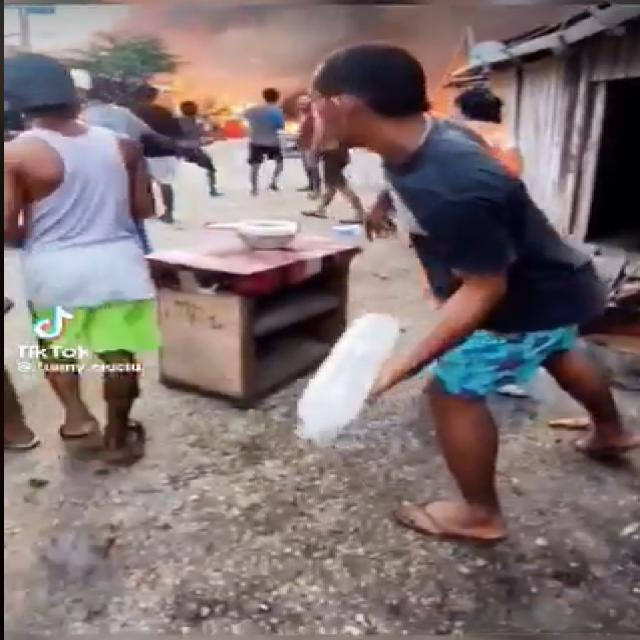Fire: (150, 81, 298, 132), (421, 70, 504, 152)
Smoke: (156, 0, 570, 74)
